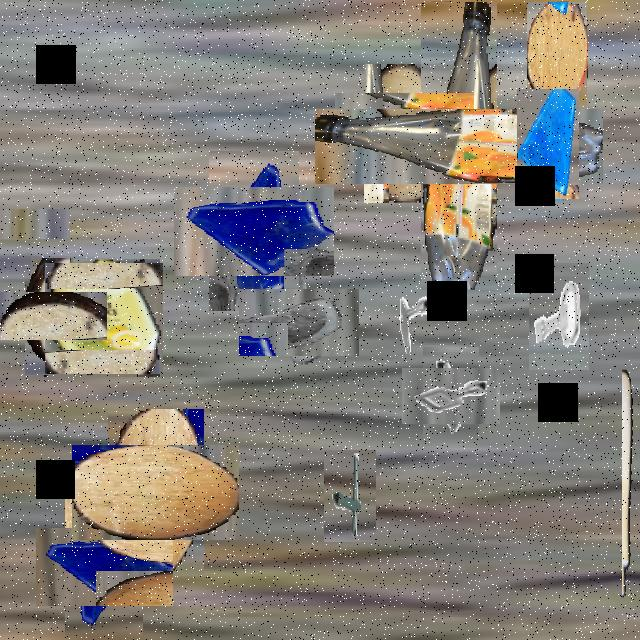glass: (192, 168, 316, 294), (50, 513, 158, 621), (252, 275, 346, 369), (517, 89, 579, 199)
metal: (529, 263, 589, 370), (412, 358, 490, 435), (324, 450, 376, 542), (0, 188, 50, 259), (388, 277, 430, 352)
plastic: (368, 55, 550, 237), (46, 261, 162, 375), (622, 368, 640, 599)
wood: (90, 427, 222, 558), (350, 78, 460, 189), (8, 275, 90, 358), (527, 2, 587, 105)
